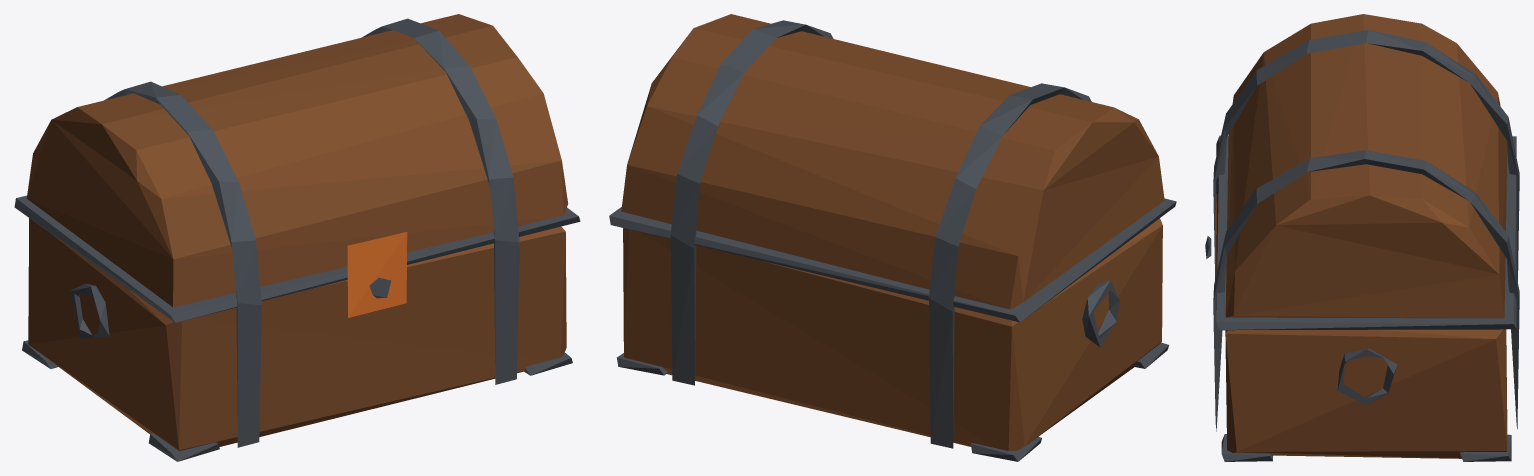
Rendered from treasure_chest_lod1.obj.
3 renders of one model, left to right at view 1: azimuth 30°, elevation 25°; view 2: azimuth 150°, elevation 25°; view 3: azimuth 270°, elevation 25°, orthographic. The views are drawn at different scales.
Parts seen in each view (by area): view 1: treasure_chest_lod1; view 2: treasure_chest_lod1; view 3: treasure_chest_lod1.
Boxes of the visible parts, x1,y1,x2,y2 form: treasure_chest_lod1: [14, 14, 580, 461]; treasure_chest_lod1: [609, 14, 1176, 461]; treasure_chest_lod1: [1205, 14, 1519, 461].
Bounding box in the file's own units: 0.888 × 0.5948 × 0.6065.
